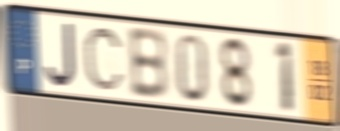0: (173, 32, 211, 105)
1: (273, 39, 299, 118)
8: (218, 35, 254, 111)
B: (125, 26, 171, 103)
C: (81, 25, 126, 93)
J: (44, 20, 78, 90)
